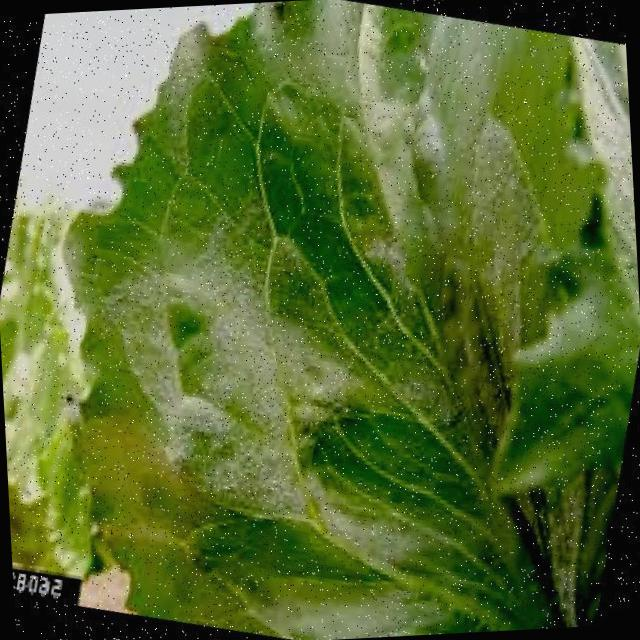Powdery_Mildew: (71, 157, 505, 606)
